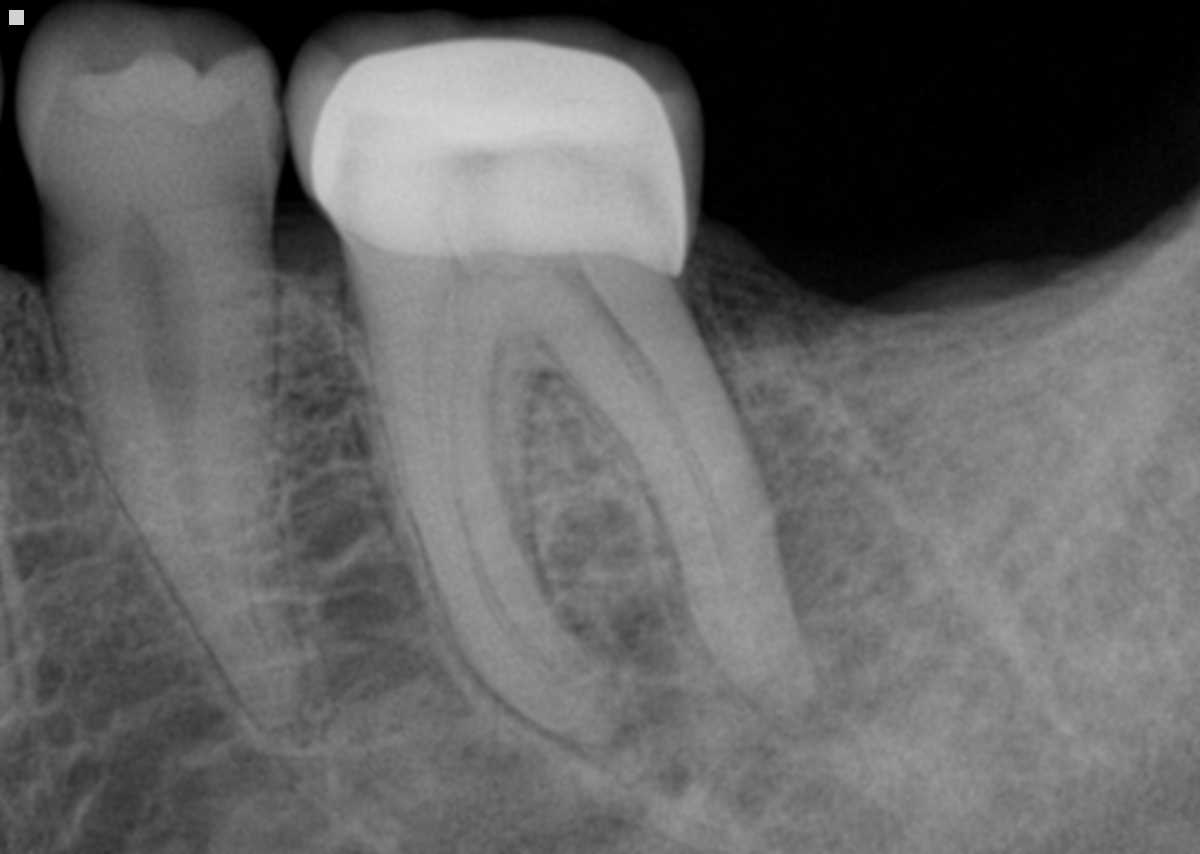Apical Lesion: (708, 387, 902, 765), (546, 495, 712, 790)
Distal Canal: (600, 326, 775, 661)
Distal Root: (539, 292, 815, 729)
Main Canal: (120, 280, 266, 662)
Main Root: (51, 276, 306, 728)
Mesial Canal: (419, 326, 550, 667)
Mesial Root: (351, 311, 626, 741)
